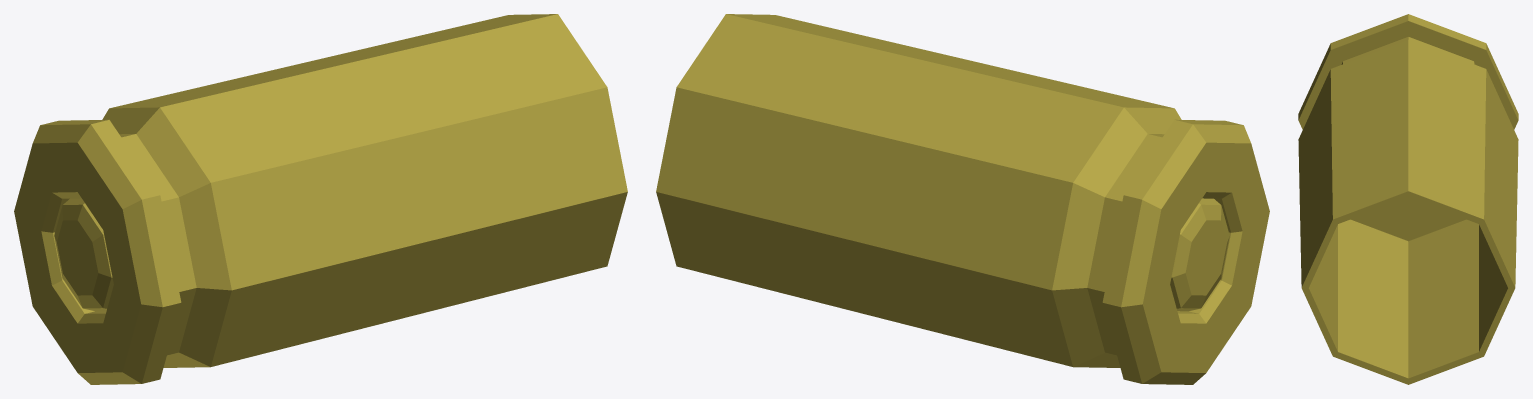
The model's file is 45acp_shell.glb.
The picture shows the model from 3 angles, left to right: view 1: azimuth 30°, elevation 25°; view 2: azimuth 150°, elevation 25°; view 3: azimuth 270°, elevation 25°; orthographic projection. The views are drawn at different scales.
Parts seen in each view (by area): view 1: 919 case; view 2: 919 case; view 3: 919 case.
Boxes of the visible parts, bbox=[...] form: 919 case: bbox=[14, 14, 627, 384]; 919 case: bbox=[656, 14, 1269, 384]; 919 case: bbox=[1298, 14, 1518, 384].
Bounding box in the file's own units: 0.1915 × 0.0993 × 0.0993.
